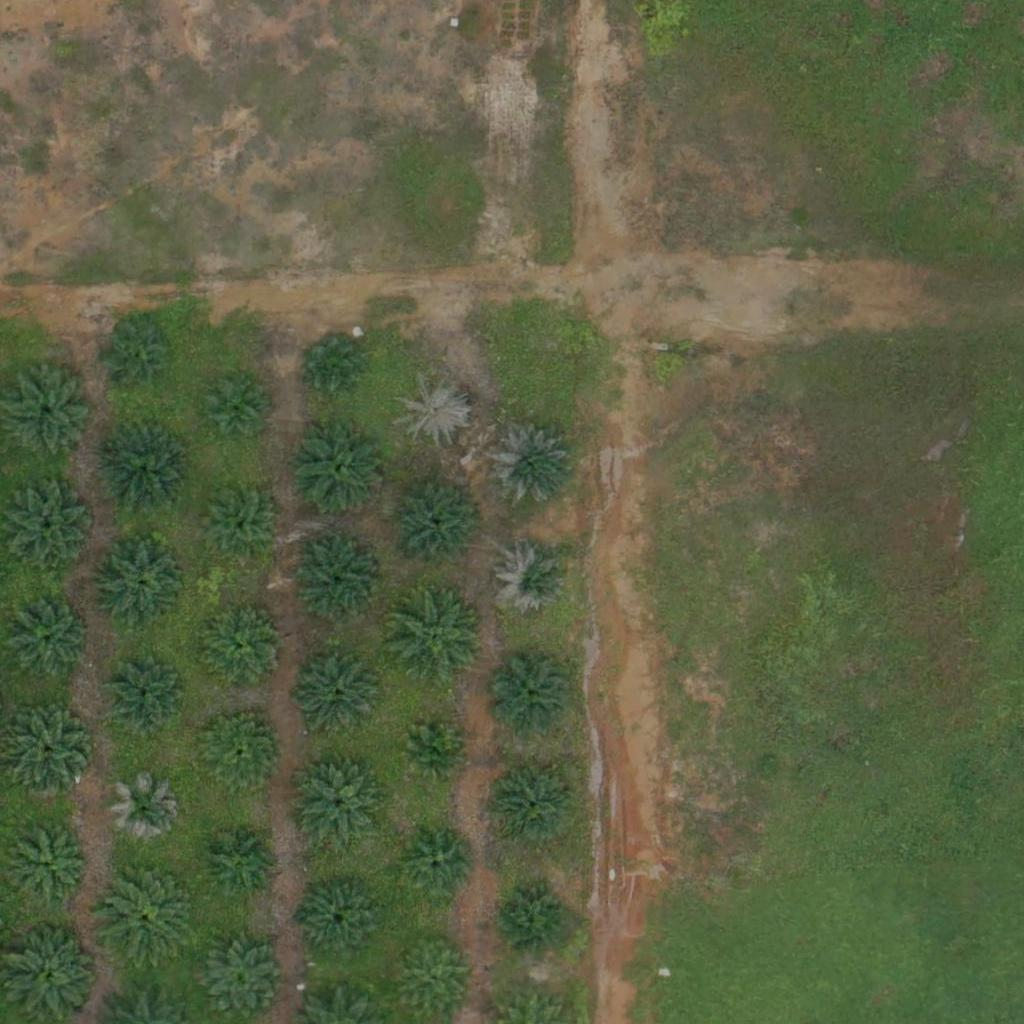Kelapa_Sawit: (100, 865, 200, 966), (290, 420, 390, 520), (389, 474, 489, 574), (389, 588, 489, 688), (6, 486, 94, 575), (196, 710, 284, 799), (298, 877, 386, 966), (197, 817, 285, 905), (100, 429, 188, 517), (97, 542, 185, 630), (199, 608, 287, 696), (485, 422, 573, 510), (487, 652, 575, 740), (488, 763, 576, 851), (3, 600, 90, 688), (6, 710, 93, 798), (295, 537, 382, 625), (294, 653, 381, 741), (295, 763, 382, 851), (12, 827, 87, 903), (396, 373, 471, 449), (497, 543, 572, 619), (202, 492, 277, 567), (402, 828, 477, 903), (499, 883, 574, 958), (106, 660, 181, 735), (108, 774, 183, 849), (394, 939, 469, 1014), (107, 325, 170, 388), (204, 372, 267, 435), (404, 723, 467, 786), (300, 333, 362, 395)
